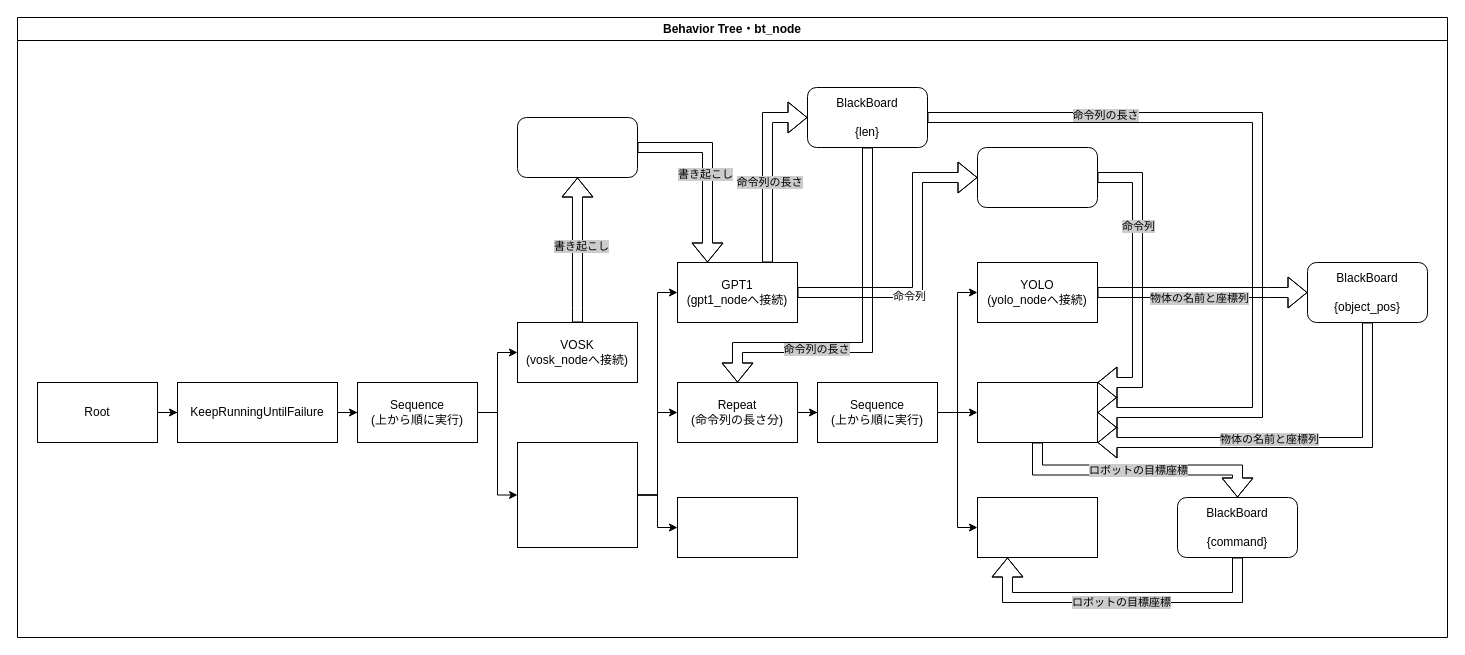
This 1465x655 diagram has some shape labels left out. The centre of each missing label's shape, as x and y in pixels:
AlwaysSuccess: the point at 737,527
BlackBoard {text}: the point at 1037,177
BlackBoard {voice}: the point at 577,147
GPT2 (gpt2_node・ar_nodeへ接続): the point at 1037,412
IfThenElse (GPT1がSuccessを返したらRebeatを実行，Failureを返したらAlwaiySuccessを実行): the point at 577,495
SendPos (pos2vel_nodeへ接続): the point at 1037,527
